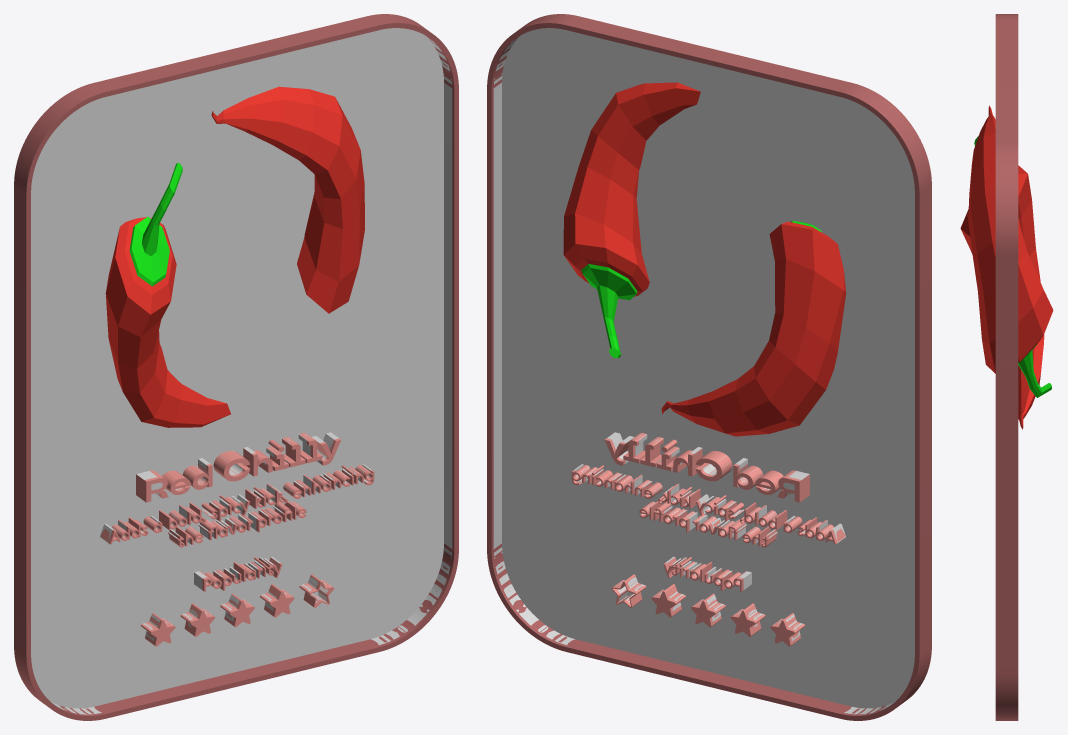
The model's file is redChilly.glb.
The picture shows the model from 3 angles, left to right: view 1: azimuth 30°, elevation 25°; view 2: azimuth 150°, elevation 25°; view 3: azimuth 270°, elevation 25°; orthographic projection. The views are drawn at different scales.
Visible parts, largest first — view 1: Mesh_1024.002, Chili_Pepper_01.001, Mesh_2361.002, Mesh_2407.002, Mesh_2293.002, Mesh_2671.001; view 2: Mesh_1024.002, Chili_Pepper_01.001, Mesh_2361.002, Mesh_2407.002, Mesh_2293.002, Mesh_2671.001; view 3: Mesh_2361.002, Chili_Pepper_01.001.
Boxes of the visible parts, left/top/right/bottom form: Mesh_1024.002: left=31, top=28, right=452, bottom=714; Chili_Pepper_01.001: left=105, top=86, right=364, bottom=427; Mesh_2361.002: left=14, top=14, right=458, bottom=720; Mesh_2407.002: left=100, top=465, right=374, bottom=591; Mesh_2293.002: left=136, top=433, right=340, bottom=502; Mesh_2671.001: left=140, top=574, right=334, bottom=646; Mesh_1024.002: left=493, top=28, right=914, bottom=714; Chili_Pepper_01.001: left=563, top=82, right=846, bottom=436; Mesh_2361.002: left=487, top=14, right=931, bottom=720; Mesh_2407.002: left=571, top=465, right=845, bottom=591; Mesh_2293.002: left=605, top=433, right=809, bottom=502; Mesh_2671.001: left=611, top=574, right=805, bottom=646; Mesh_2361.002: left=995, top=14, right=1018, bottom=720; Chili_Pepper_01.001: left=960, top=105, right=1053, bottom=429.
Bounding box in the file's own units: 9.06 × 12.55 × 1.86.
